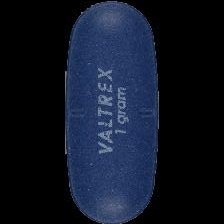61786-721: (0, 0, 224, 224)
